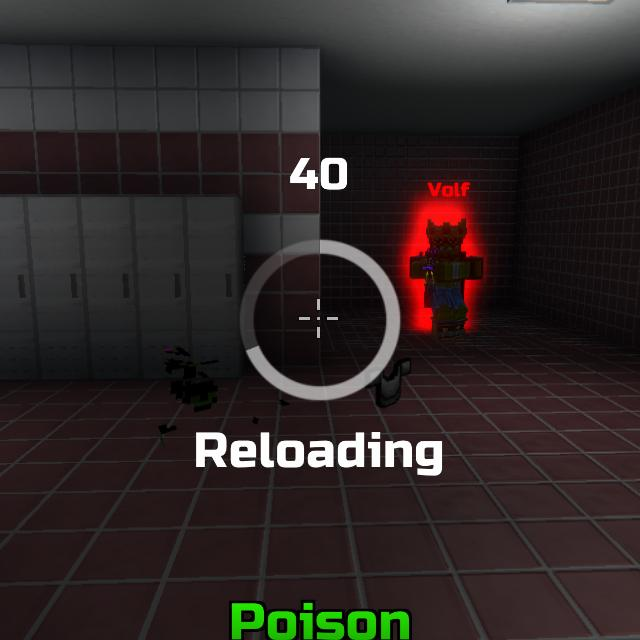Enemy: (409, 226, 484, 340)
